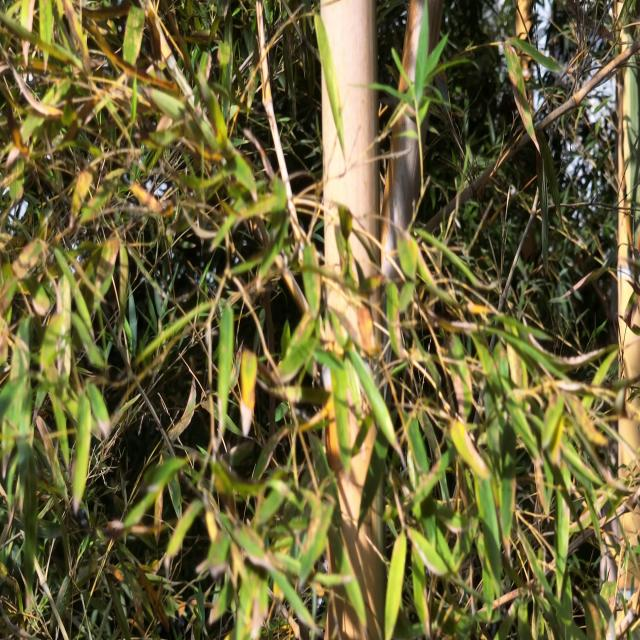Bamboo-shoots: (321, 0, 386, 640)
